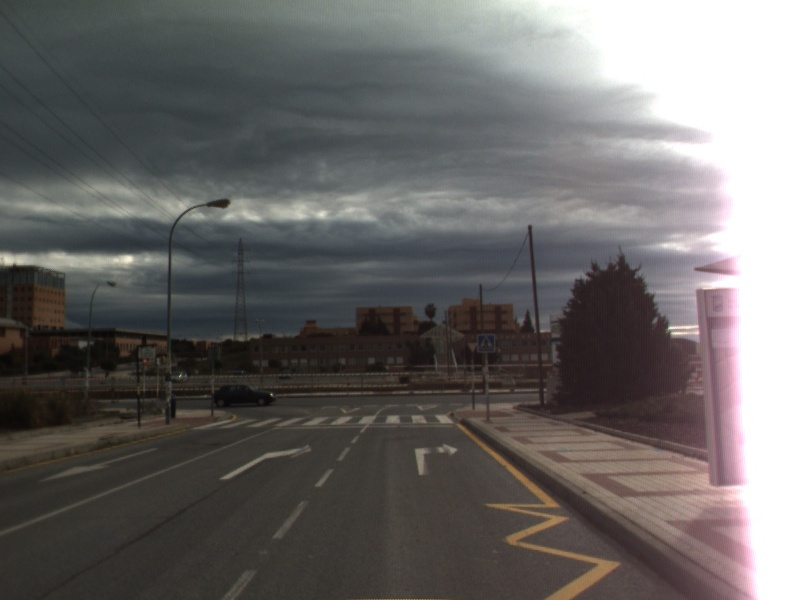RIGHT: (217, 442, 314, 481), (412, 441, 460, 477)
